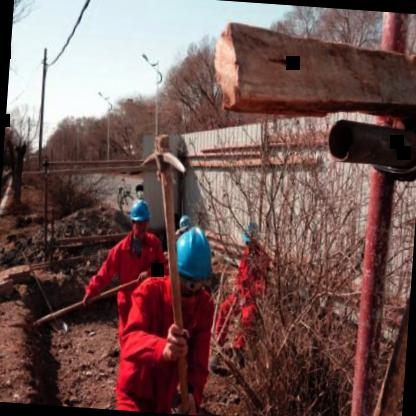helmet: (171, 226, 216, 306), (126, 199, 152, 238), (241, 221, 259, 249)
